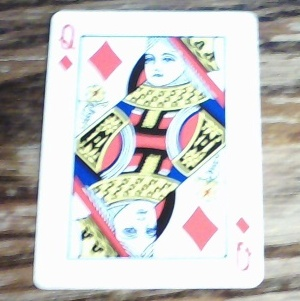card: (34, 10, 265, 291)
